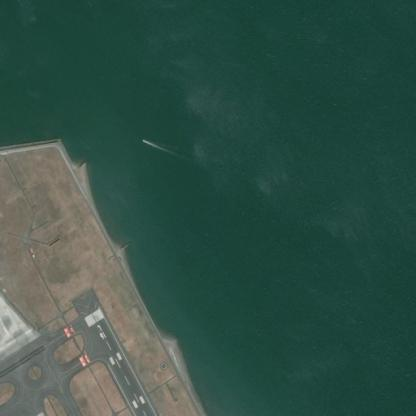ship: (124, 138, 127, 141)
